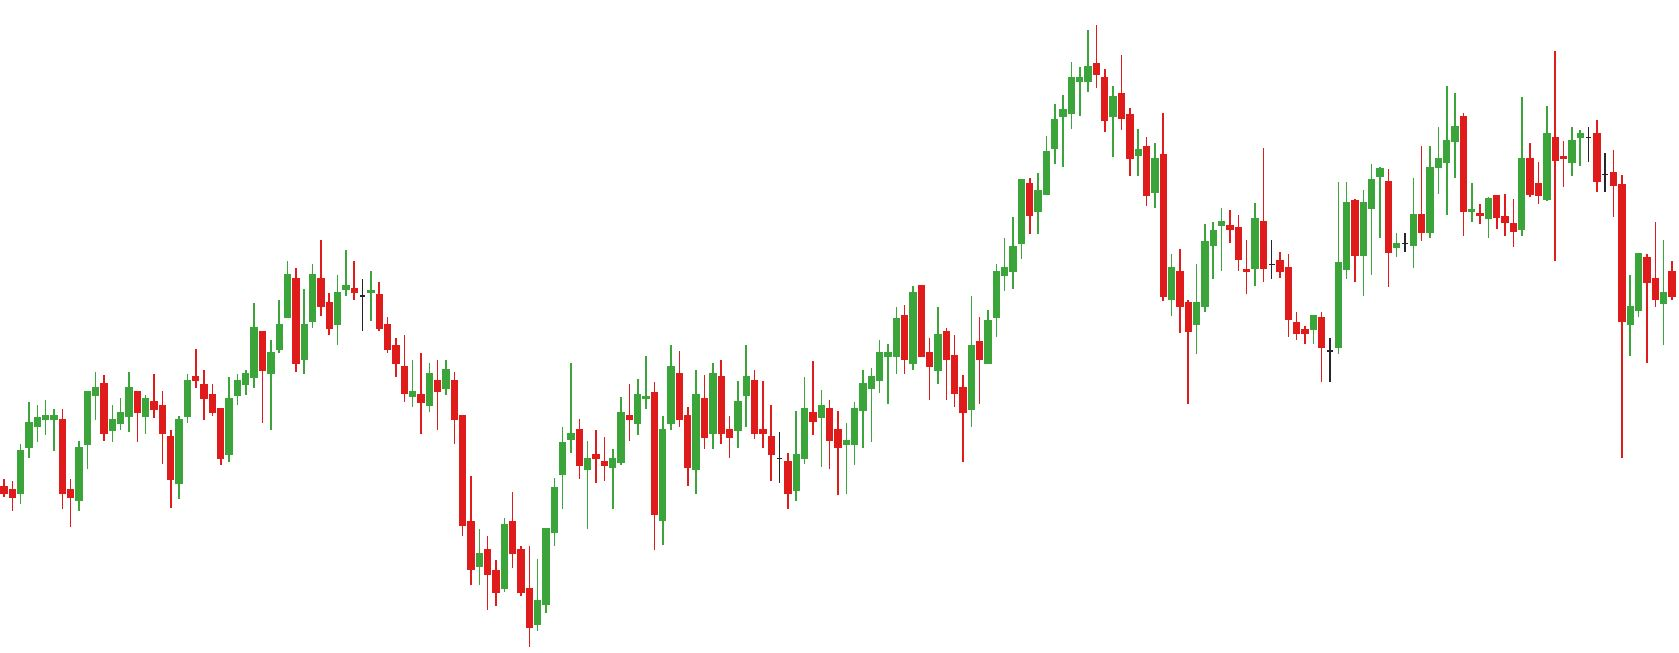buy: (858, 345, 978, 465), (583, 399, 670, 562), (6, 413, 85, 531)
sell: (1440, 46, 1562, 223), (279, 236, 327, 339)
